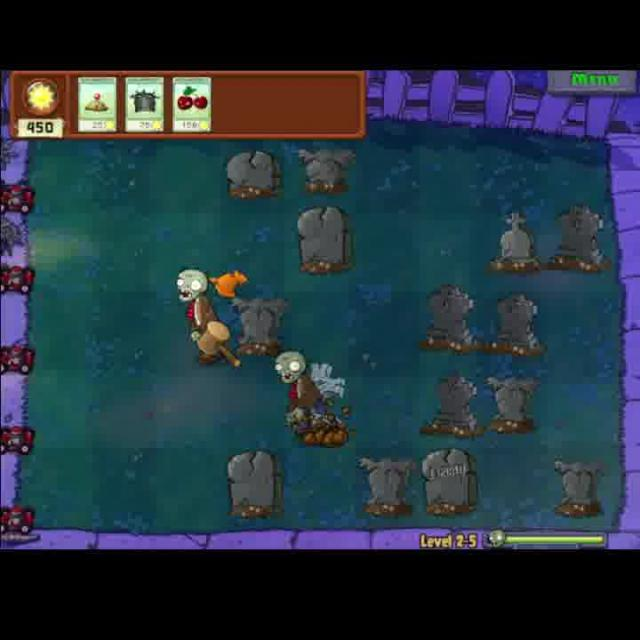coins: (170, 264, 228, 373), (269, 344, 328, 444)
